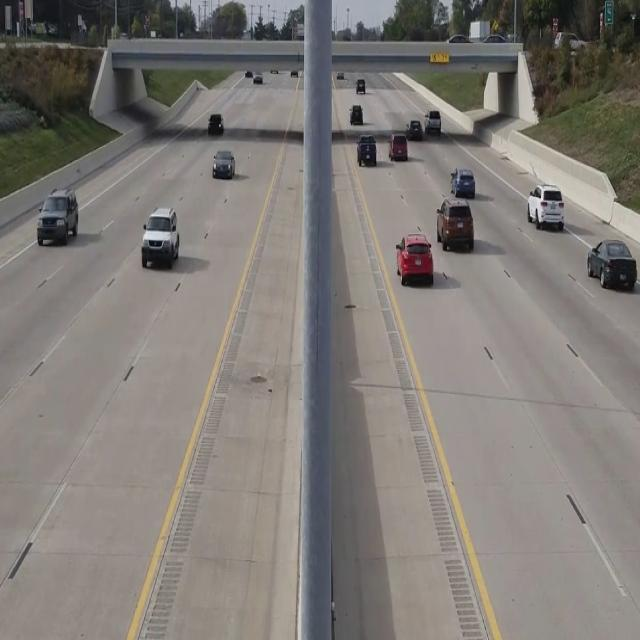car: (586, 239, 638, 290), (140, 205, 179, 268), (394, 233, 432, 285), (527, 184, 564, 230), (450, 168, 476, 198), (212, 149, 235, 179), (356, 134, 376, 166), (208, 113, 223, 134)
